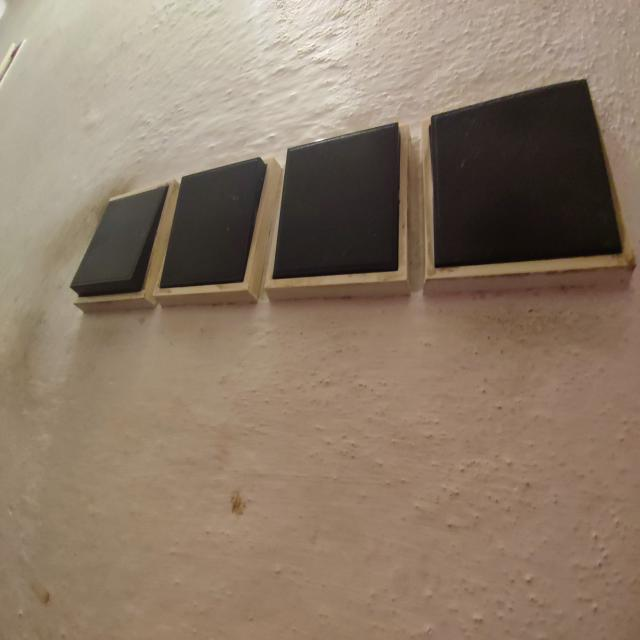house switch: (422, 79, 634, 294), (264, 122, 412, 302), (153, 157, 282, 306), (69, 179, 181, 313)
